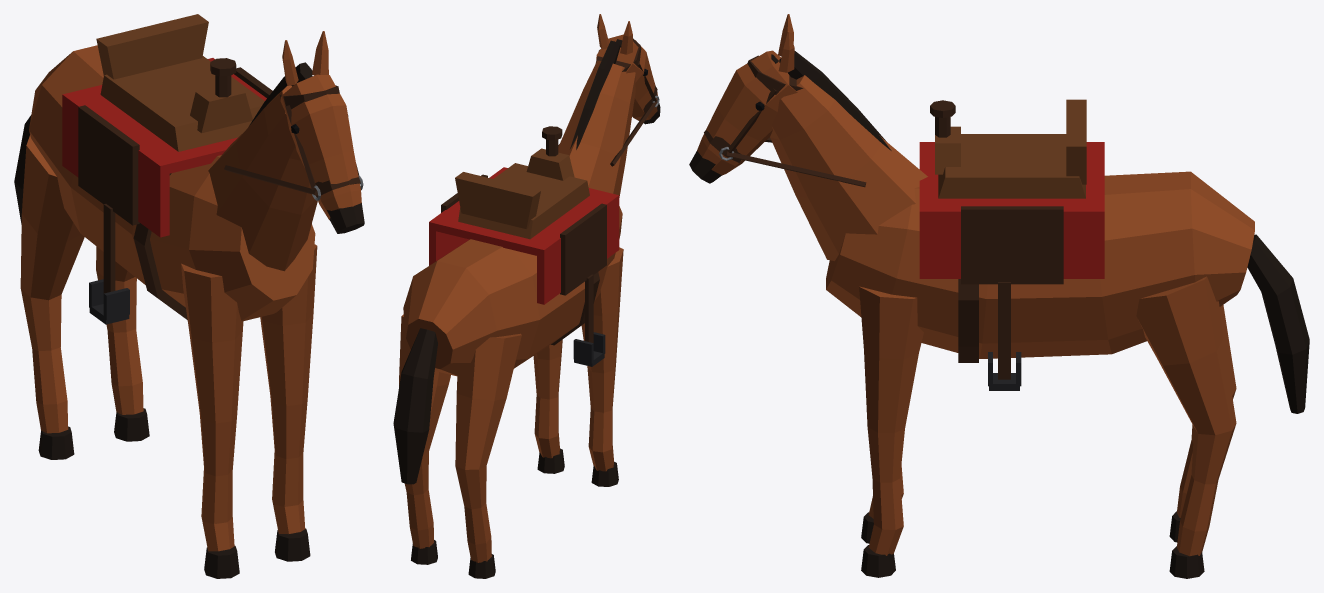
File: SM_Horse_Saddled.obj
The picture shows the model from 3 angles, left to right: view 1: azimuth 30°, elevation 25°; view 2: azimuth 150°, elevation 25°; view 3: azimuth 270°, elevation 25°; orthographic projection. The views are drawn at different scales.
Visible parts, largest first — view 1: SM_Horse_Saddled; view 2: SM_Horse_Saddled; view 3: SM_Horse_Saddled.
Part boxes in pixels (bbox=[...]): SM_Horse_Saddled: bbox=[14, 14, 364, 578]; SM_Horse_Saddled: bbox=[393, 14, 660, 578]; SM_Horse_Saddled: bbox=[689, 14, 1309, 578].
Size of the model in its own units: 0.79 by 2.28 by 2.41.
